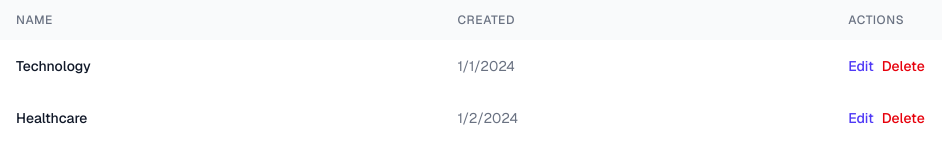
it: IndustriesListClient › should disable delete button during deletion
Click the button "Delete" in the row of "Technology": click(903, 66) left=882, top=56, right=925, bottom=76
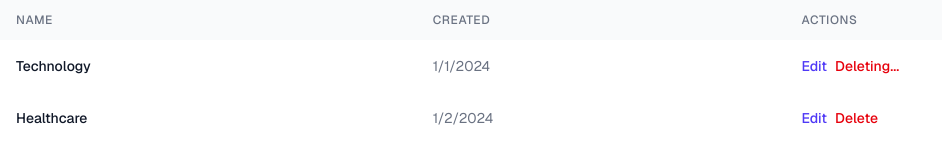
Expected: the button "Deleting..." is disabled, left=835, top=56, right=899, bottom=76
